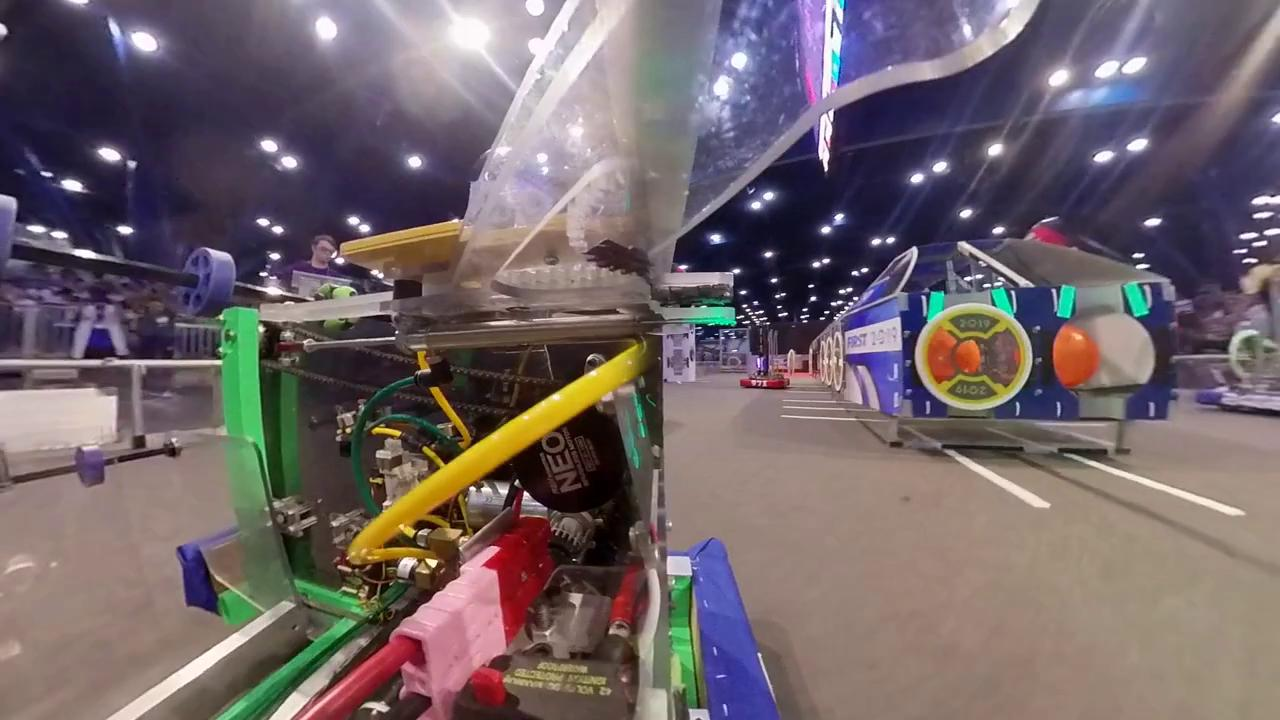robot: (740, 325, 790, 389)
